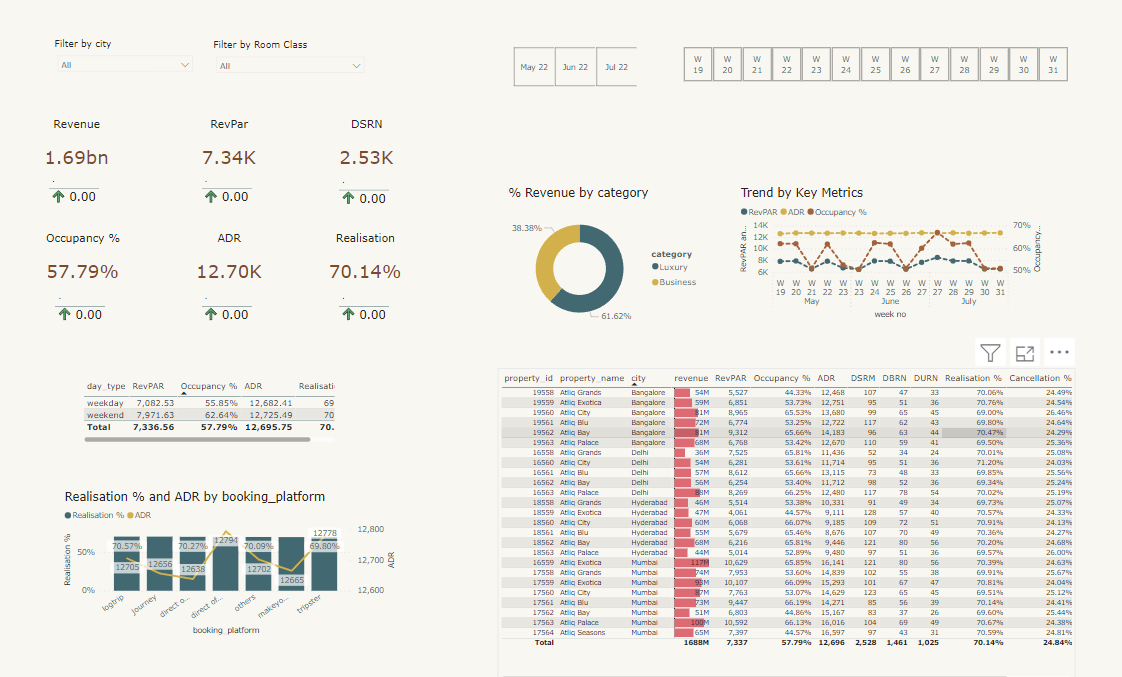

Layout of this report page (visuals, bound fields, positions):
{"tool":"powerbi","page":{"name":"Page 1","canvas":[1800,1100],"ordinal":0},"visuals":[{"type":"tableEx","fields":{"Values":["dim_hotels.property_id","dim_hotels.property_name","dim_hotels.city","key_measures.revenue","key_measures.RevPAR","key_measures.Occupancy %","key_measures.ADR","key_measures.DSRM","key_measures.DBRN","key_measures.DURN","key_measures.Realisation %","key_measures.Cancellation %"]},"box":[796,592,924,508],"z":0},{"type":"slicer","title":"Filter by city","fields":{"Values":["dim_hotels.city"]},"box":[82,64,236.8,56],"z":1000},{"type":"slicer","title":"Filter by Room Class","fields":{"Values":["dim_rooms.room_class"]},"box":[336.8,66,257.2,58],"z":2000},{"type":"slicer","title":"Filter by city","fields":{"Values":["dim_date.mmm yy"]},"box":[796,72,246,76],"z":3000},{"type":"slicer","title":"Filter by city","fields":{"Values":["dim_date.week no"]},"box":[1068.4,72.8,664,68],"z":4000},{"type":"card","title":"Revenue","fields":{"Values":["key_measures.revenue"]},"box":[33.6,189.1,177.2,110],"z":5000},{"type":"tableEx","fields":{"Values":["key_measures.Revenue wow change %"]},"box":[71.5,274.7,101.5,84.3],"z":6000},{"type":"donutChart","title":"% Revenue by category","fields":{"Y":["key_measures.revenue"],"Category":["dim_hotels.category"]},"box":[808,300,320,244],"z":7000},{"type":"tableEx","fields":{"Values":["dim_date.day_type","key_measures.RevPAR","key_measures.Occupancy %","key_measures.ADR","key_measures.Realisation %"]},"box":[128,606,412,110],"z":8000},{"type":"card","title":"ADR","fields":{"Values":["key_measures.ADR"]},"box":[277.9,372.1,177.1,110],"z":9000},{"type":"card","title":"DSRN","fields":{"Values":["key_measures.DSRM"]},"box":[497.9,189.3,177.1,110],"z":10000},{"type":"card","title":"RevPar","fields":{"Values":["key_measures.RevPAR"]},"box":[277.9,189.3,177.1,110],"z":11000},{"type":"card","title":"Occupancy %","fields":{"Values":["key_measures.Occupancy %"]},"box":[43.6,372.1,177.1,110],"z":12000},{"type":"card","title":"Realisation","fields":{"Values":["key_measures.Realisation %"]},"box":[496.5,372.1,177.1,110],"z":13000},{"type":"tableEx","fields":{"Values":["key_measures.Revenue wow change %"]},"box":[535,462.1,101.4,84.3],"z":14000},{"type":"tableEx","fields":{"Values":["key_measures.Revenue wow change %"]},"box":[535,276.4,101.4,84.3],"z":15000},{"type":"tableEx","fields":{"Values":["key_measures.Revenue wow change %"]},"box":[316.5,275,101.4,84.3],"z":16000},{"type":"tableEx","fields":{"Values":["key_measures.Revenue wow change %"]},"box":[82.2,462.1,101.4,84.3],"z":17000},{"type":"tableEx","fields":{"Values":["key_measures.Revenue wow change %"]},"box":[316.5,462.1,101.4,84.3],"z":18000},{"type":"lineStackedColumnComboChart","fields":{"Category":["fact_bookings.booking_platform"],"Y":["key_measures.Realisation %"],"Y2":["key_measures.ADR"]},"box":[98,786,541.2,238],"z":19000},{"type":"lineChart","title":"Trend by Key Metrics","fields":{"Category":["dim_date.mmm yy.Variation.Date Hierarchy.Month","dim_date.week no"],"Y":["key_measures.RevPAR","key_measures.ADR"],"Y2":["key_measures.Occupancy %"]},"box":[1180,300,494,218],"z":20000}]}

Visuals, with their boxes in screenshot pixels (x1, y1, x2, y2), scaled from the page's 1800x1100 canvas onto the 1122x677 screenshot:
tableEx - dim_hotels.property_id x dim_hotels.property_name: x1=496, y1=364, x2=1072, y2=676
"Filter by city" slicer: x1=51, y1=39, x2=199, y2=74
"Filter by Room Class" slicer: x1=210, y1=41, x2=370, y2=76
"Filter by city" slicer: x1=496, y1=44, x2=650, y2=91
"Filter by city" slicer: x1=666, y1=45, x2=1080, y2=87
"Revenue" card: x1=21, y1=116, x2=131, y2=184
tableEx - key_measures.Revenue wow change %: x1=45, y1=169, x2=108, y2=221
"% Revenue by category" donutChart: x1=504, y1=185, x2=703, y2=335
tableEx - dim_date.day_type x key_measures.RevPAR: x1=80, y1=373, x2=337, y2=441
"ADR" card: x1=173, y1=229, x2=284, y2=297
"DSRN" card: x1=310, y1=117, x2=421, y2=184
"RevPar" card: x1=173, y1=117, x2=284, y2=184
"Occupancy %" card: x1=27, y1=229, x2=138, y2=297
"Realisation" card: x1=309, y1=229, x2=420, y2=297
tableEx - key_measures.Revenue wow change %: x1=333, y1=284, x2=397, y2=336
tableEx - key_measures.Revenue wow change %: x1=333, y1=170, x2=397, y2=222
tableEx - key_measures.Revenue wow change %: x1=197, y1=169, x2=260, y2=221
tableEx - key_measures.Revenue wow change %: x1=51, y1=284, x2=114, y2=336
tableEx - key_measures.Revenue wow change %: x1=197, y1=284, x2=260, y2=336
lineStackedColumnComboChart - fact_bookings.booking_platform x key_measures.Realisation %: x1=61, y1=484, x2=398, y2=630
"Trend by Key Metrics" lineChart: x1=736, y1=185, x2=1043, y2=319
